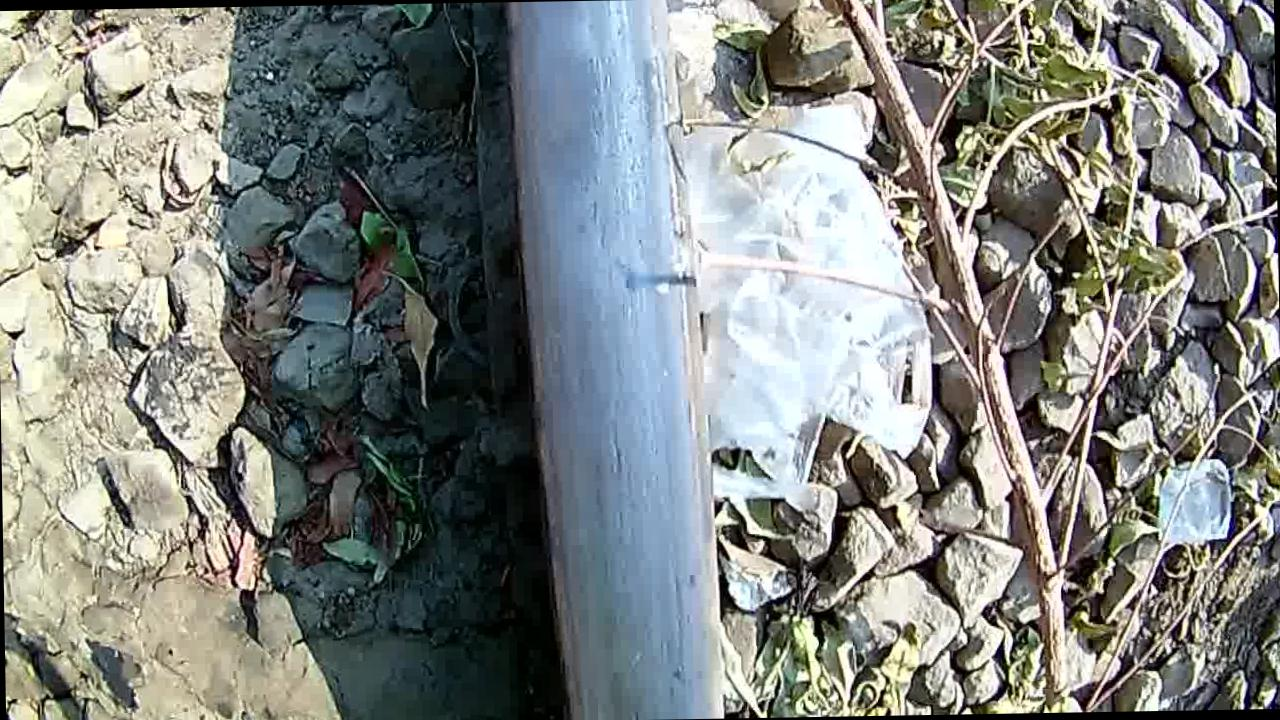bolt_missing: (516, 0, 673, 269)
